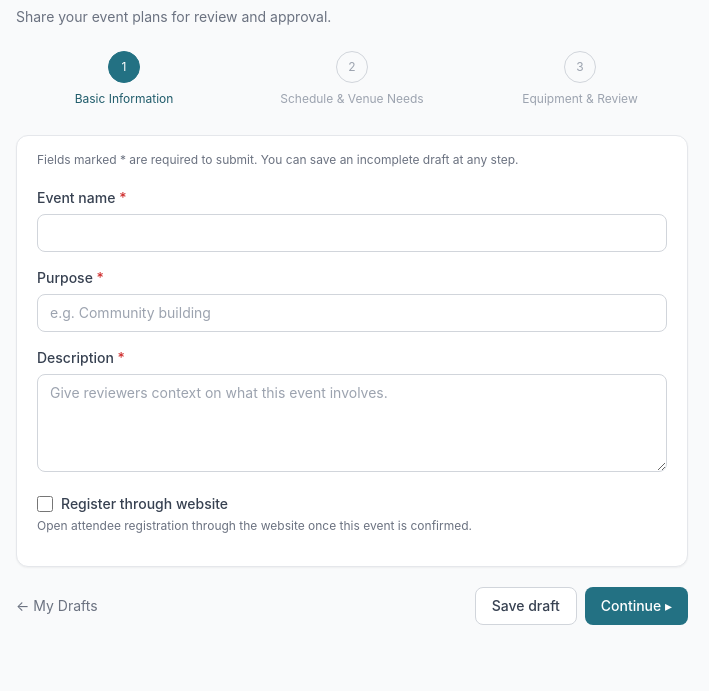
it: EventCreatePage › blocks missing schedule, attendance, and preferred room layout with field-specific errors
Step 1. Type "Welcome Evening" into the field labelled "Event name *" → (352, 233), box [37,214,667,252]
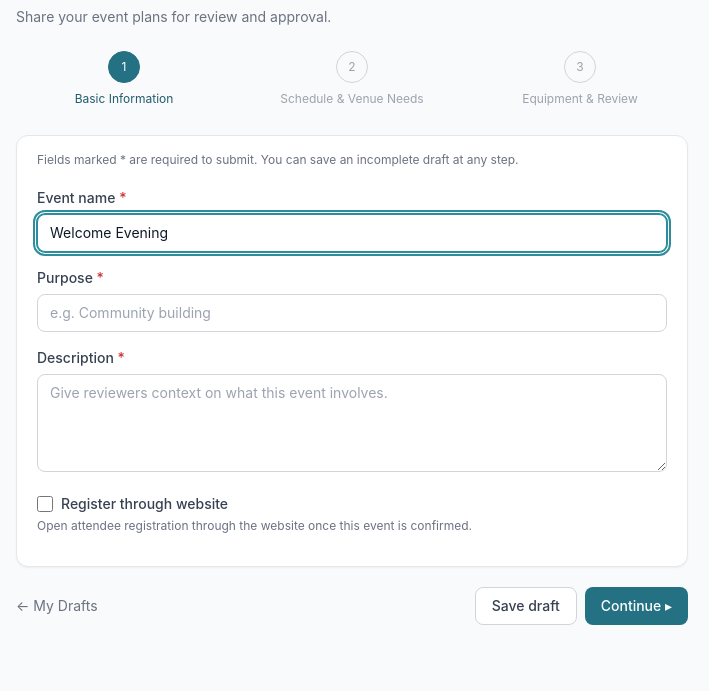
Step 2. Type "Community building" into the field labelled "Purpose *" → (352, 313), box [37,294,667,332]
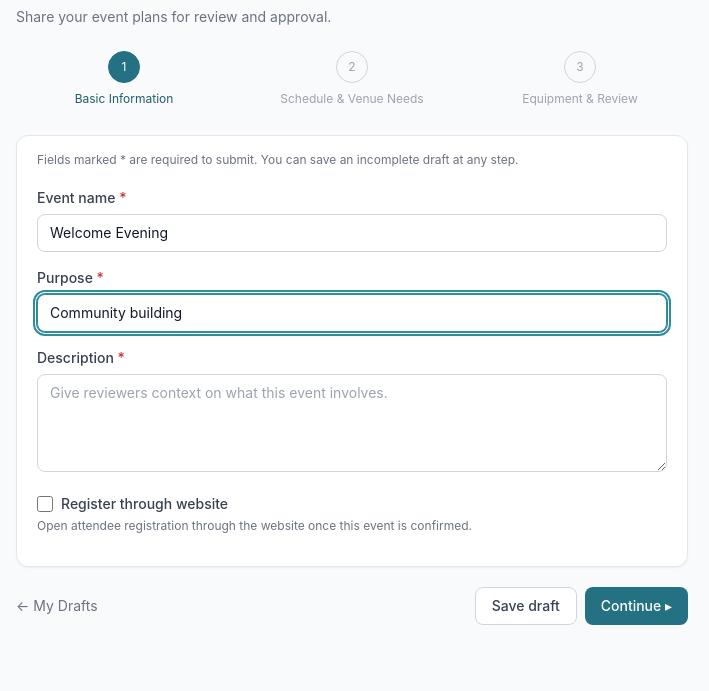
Step 3. Type "A welcome event for new members." into the text box labelled "Description *" → (352, 423), box [37,374,667,472]
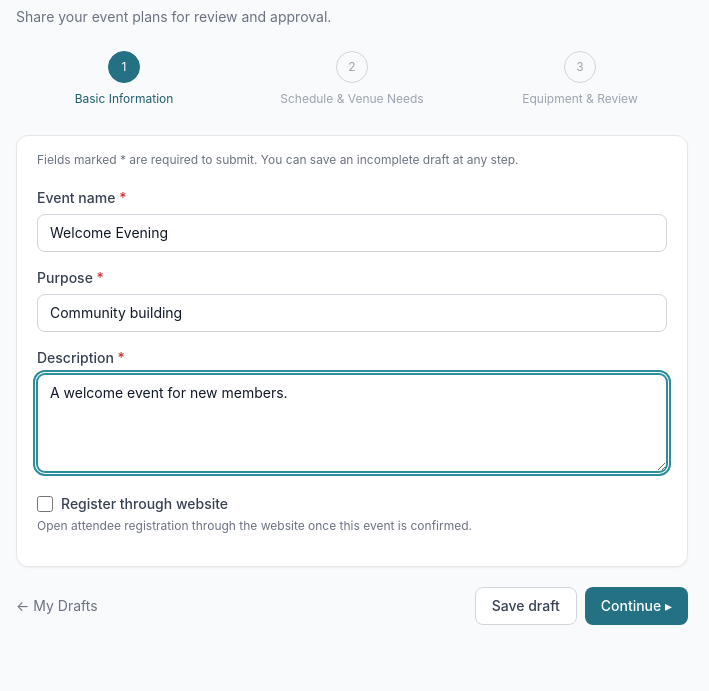
Step 4. Click the button "Continue ▸" → (636, 606), box [585,587,688,625]
(page scrolled)
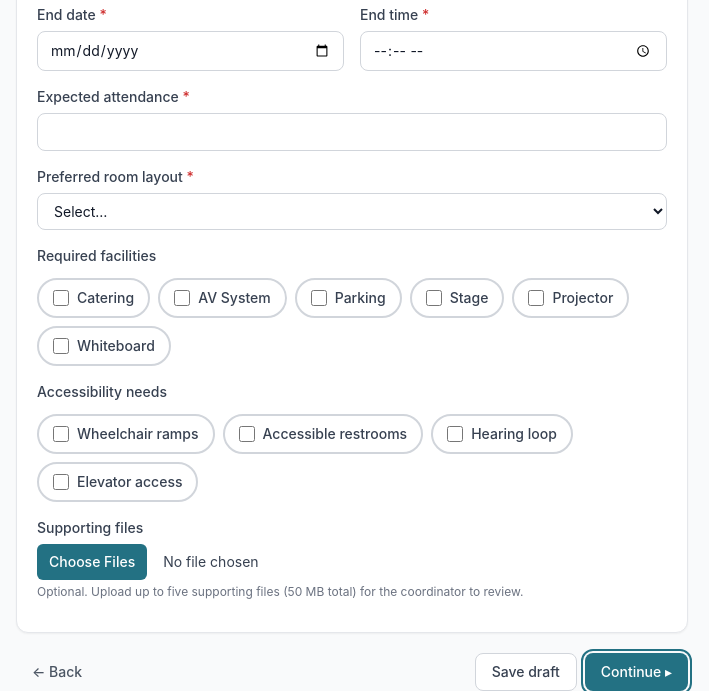
Step 5. Click the button "Continue ▸" → (636, 672), box [585,653,688,690]
(page scrolled)
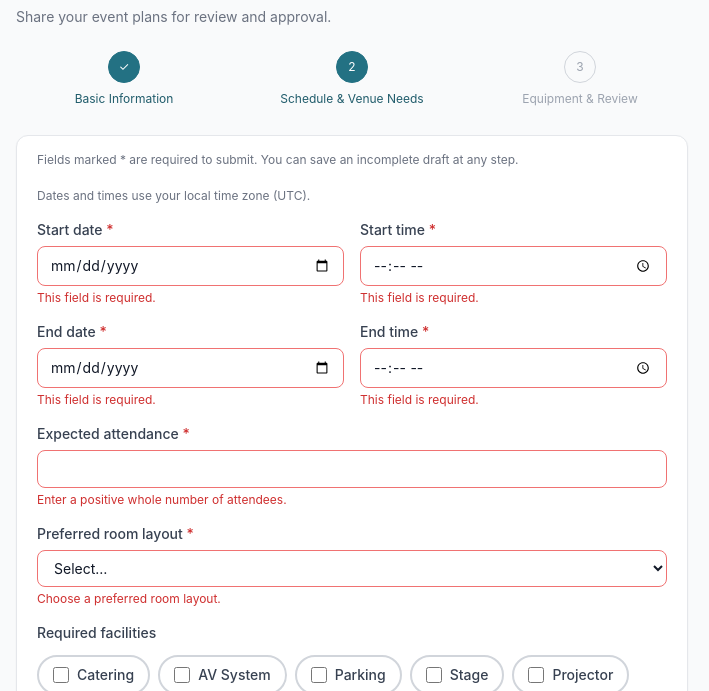
Result: the text "This field is required." is shown 4 times at [37,290,156,305]; [360,290,479,305]; [37,392,156,407]; [360,392,479,407]
Result: the text "Enter a positive whole number of attendees." is shown at [37,492,287,507]
Result: the text "Choose a preferred room layout." is shown at [37,591,221,606]
